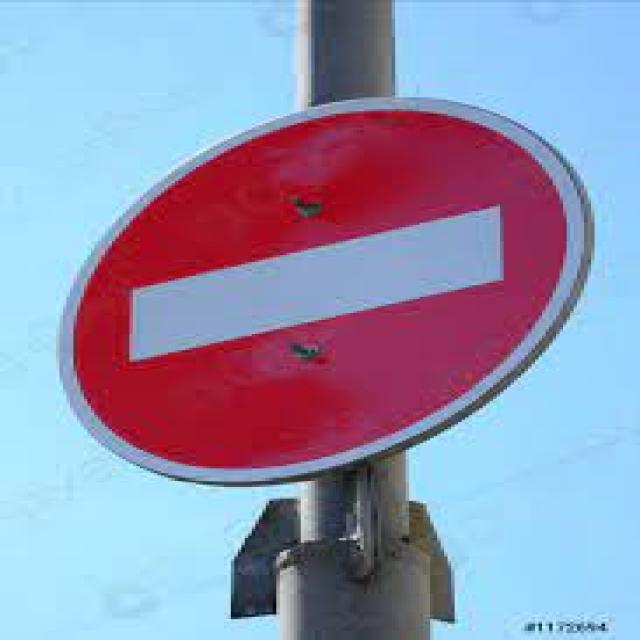NO_ENTRY: (62, 97, 597, 489)
